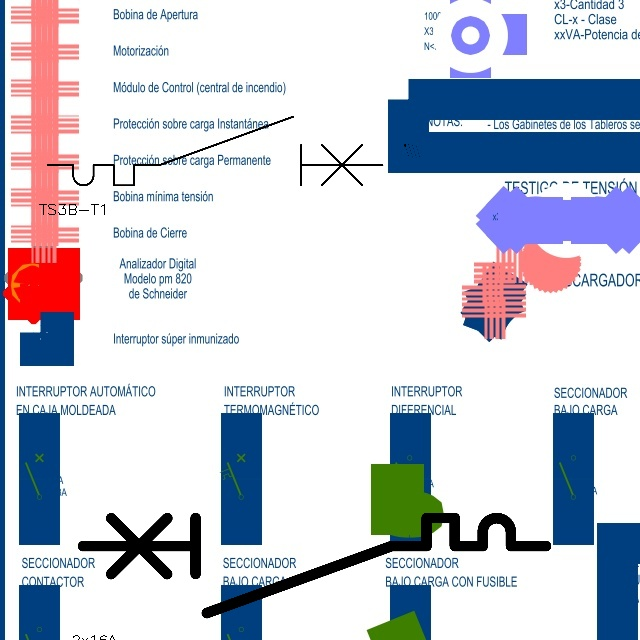interruptor_termomagnetico: (71, 506, 558, 625), (39, 108, 391, 194)
